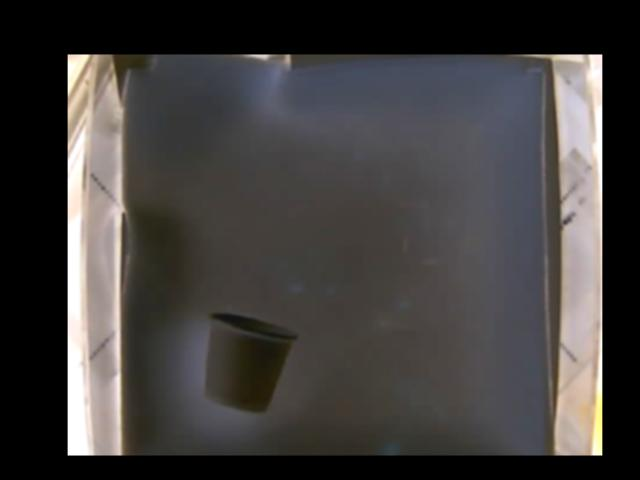Cup: (200, 311, 299, 412)
